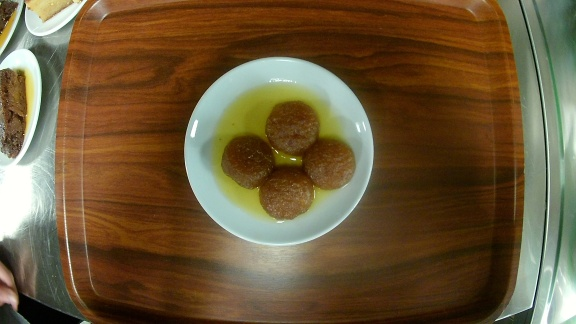kemalpasa: (186, 56, 375, 244)
